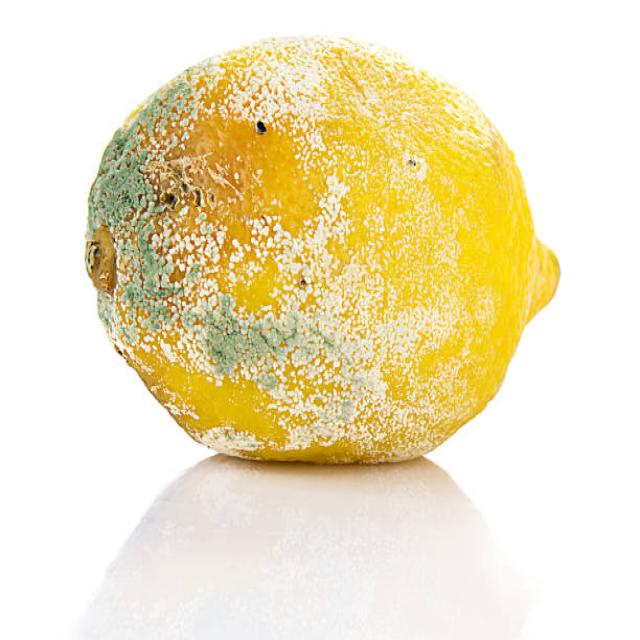Rotten: (83, 29, 562, 466)
